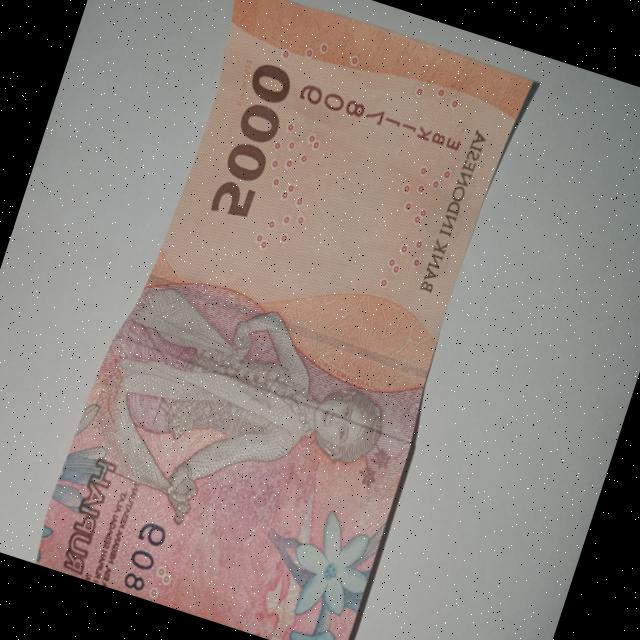5K: (17, 0, 556, 640)
